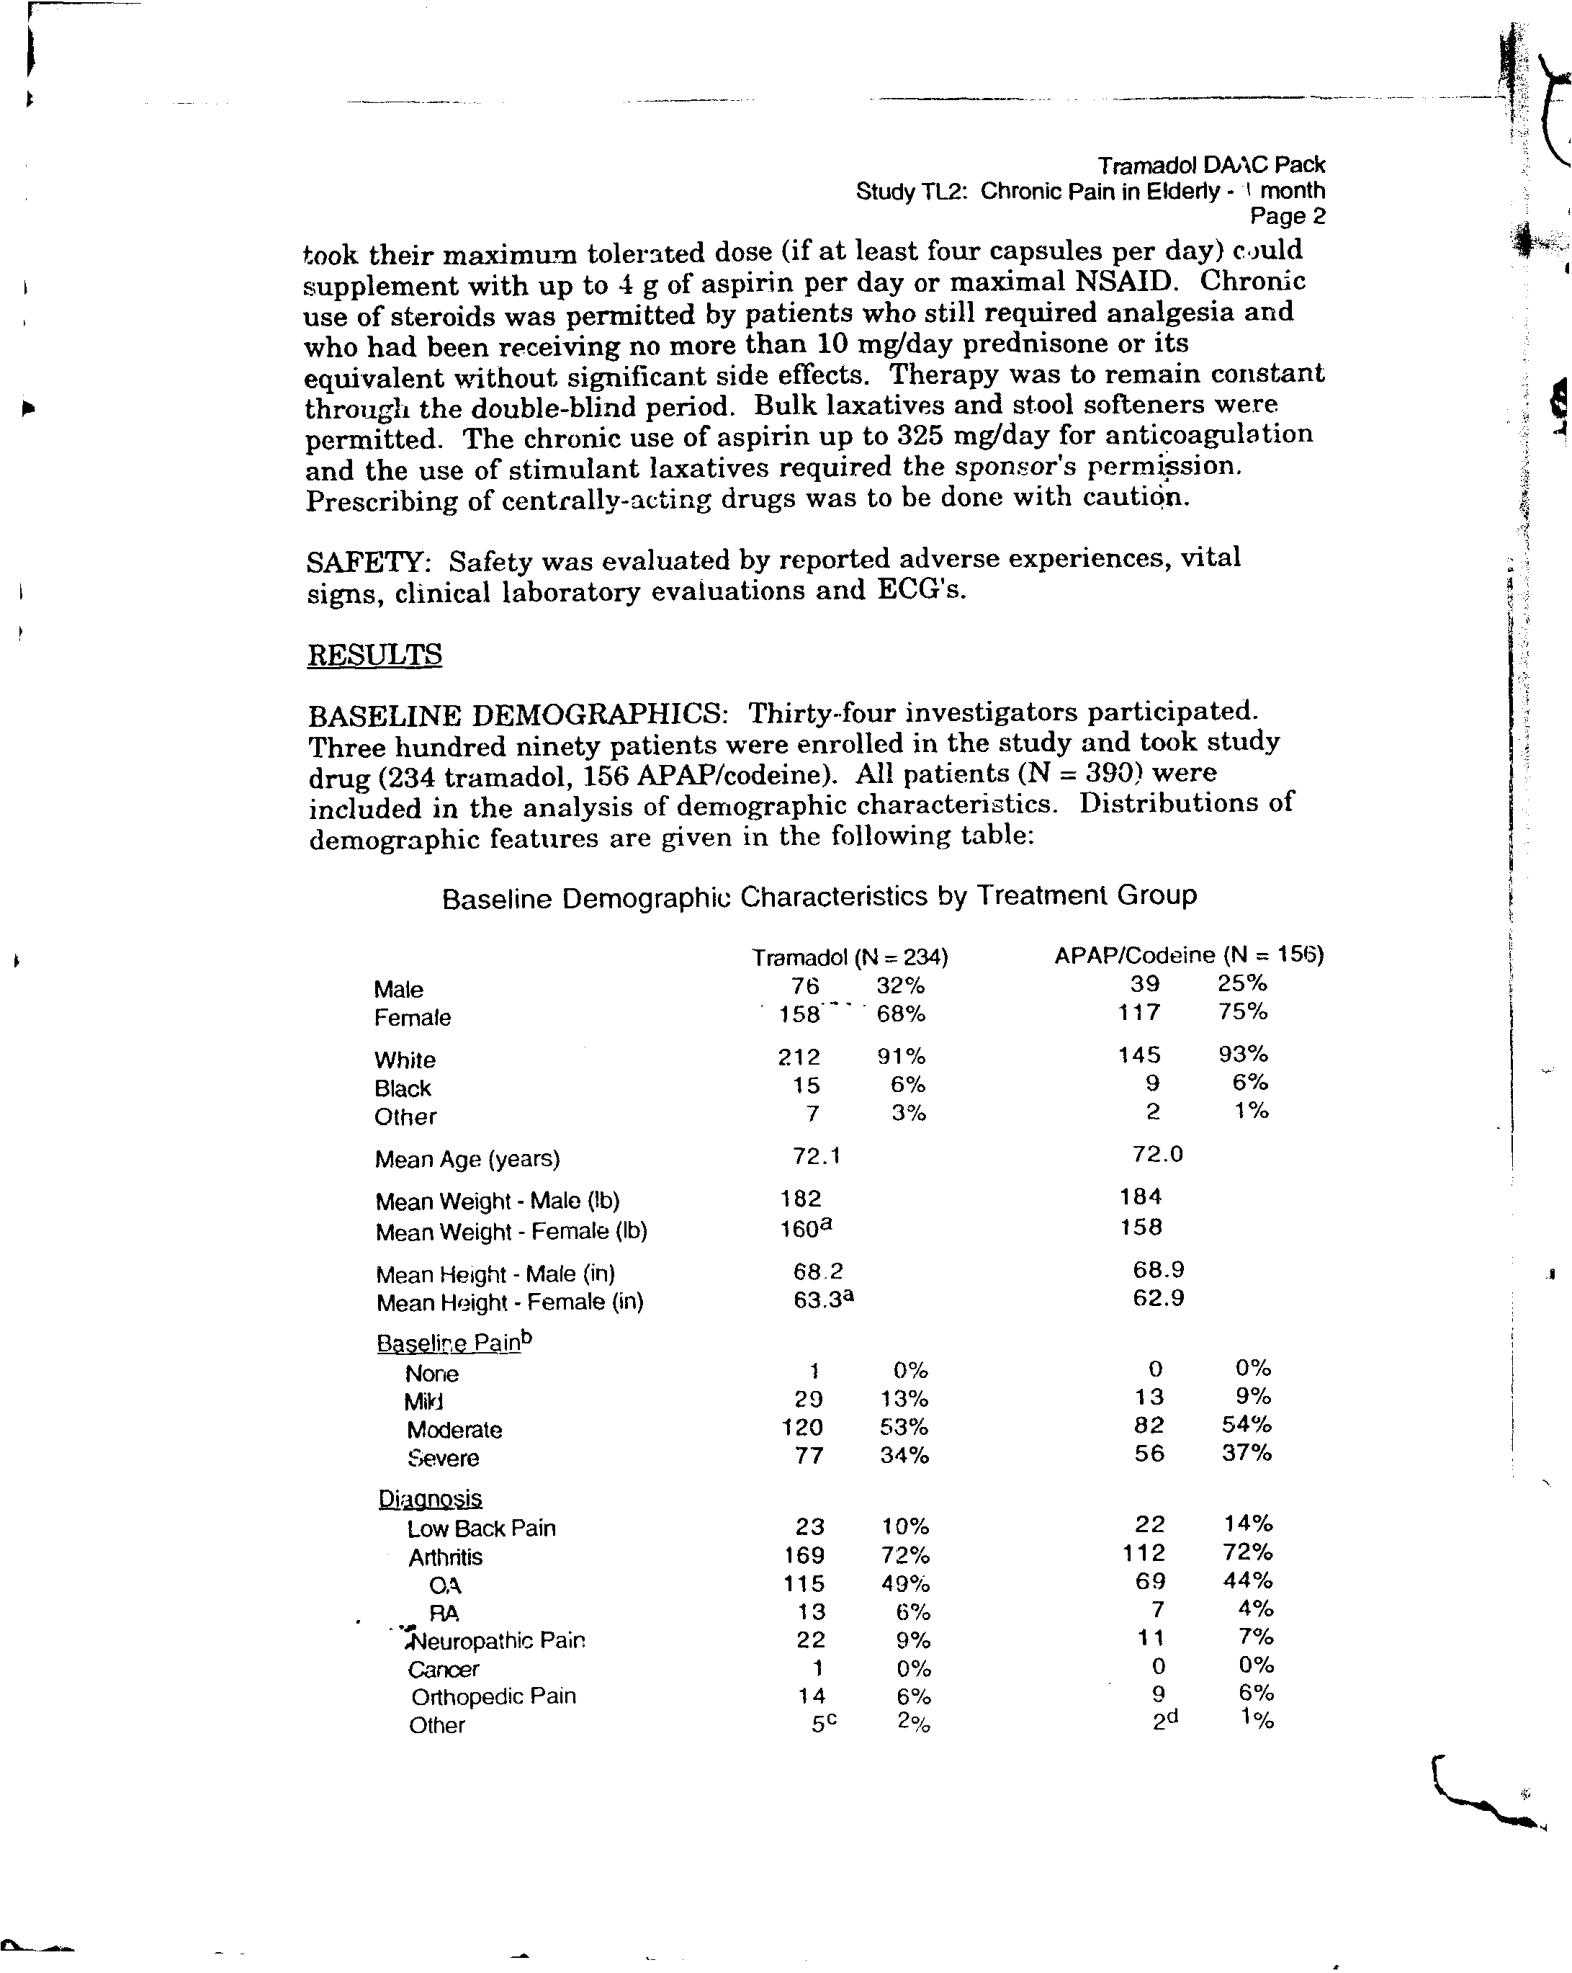nolines: (367, 942, 1325, 1739)
